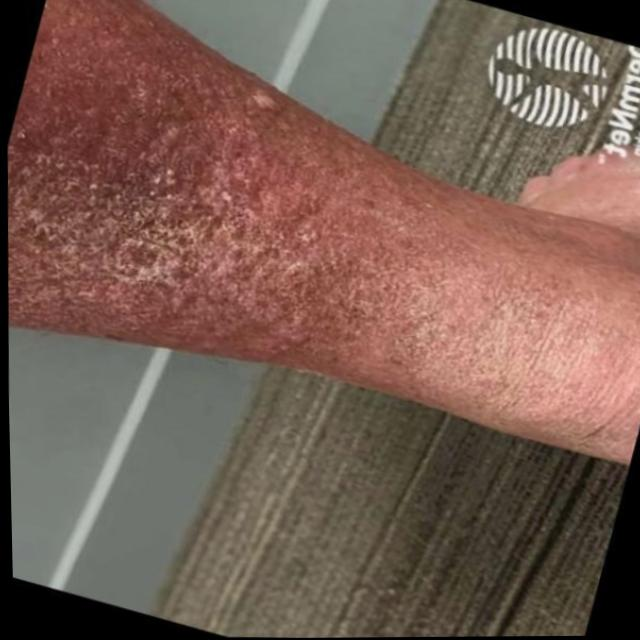Eczema: (0, 9, 373, 380)
